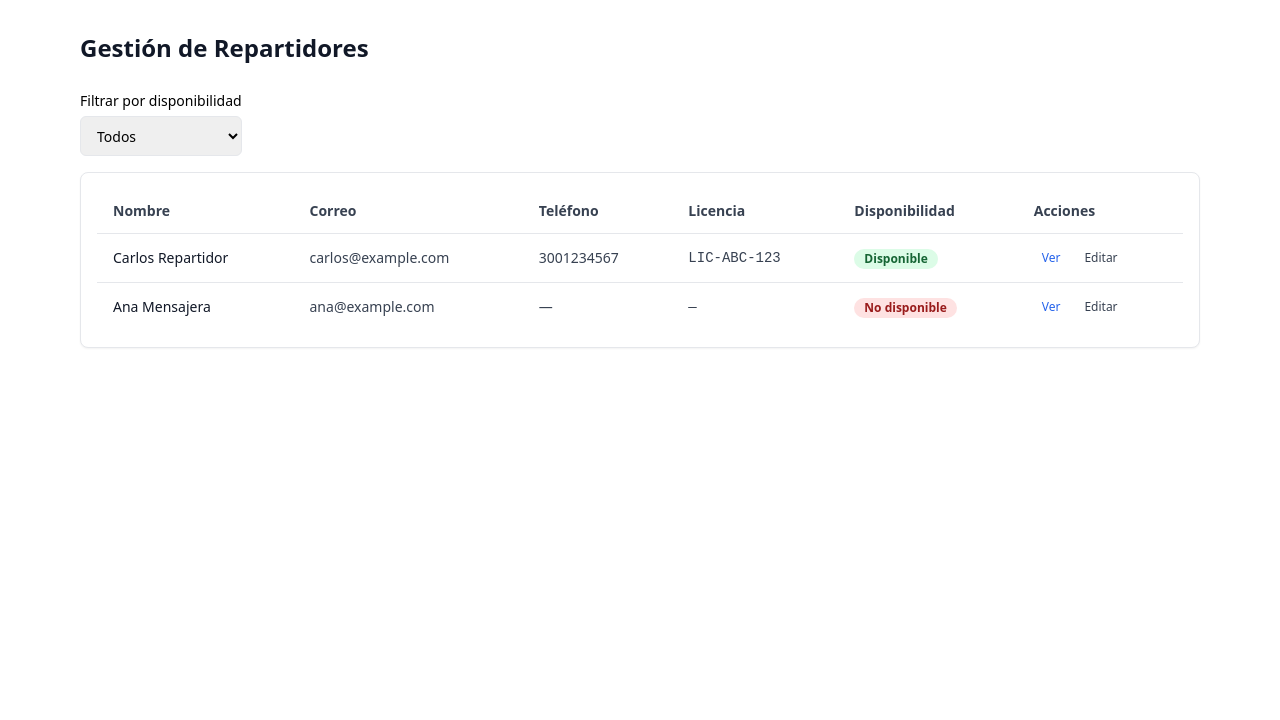
it: R19 — al hacer clic en "Ver" se muestra el panel de detalle con los datos del repartidor › abre el panel de detalle con la información del repartidor seleccionado
The width and height of the screenshot is (1280, 720).
Click the button with aria-label "ver detalle de Carlos Repartidor": point(1051, 258) [1034,246,1068,270]
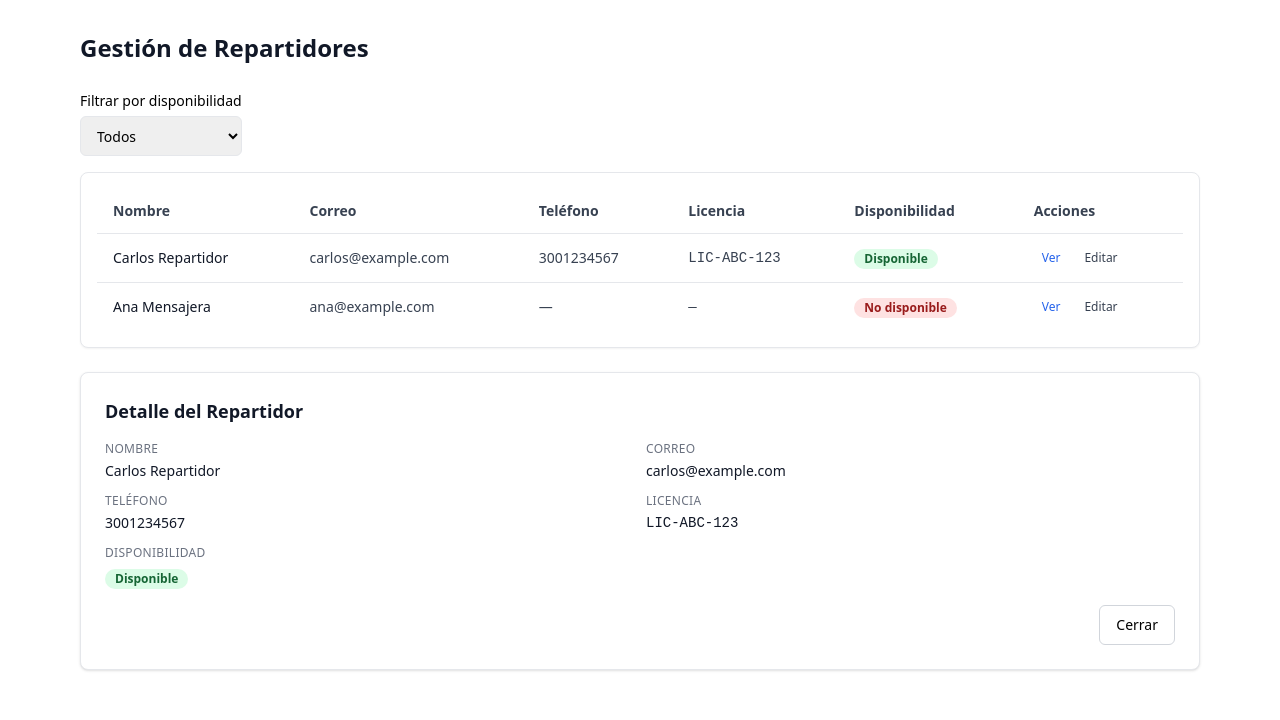
Result: the dialog named "detalle de Carlos Repartidor" is shown at [80,372,1200,670]
